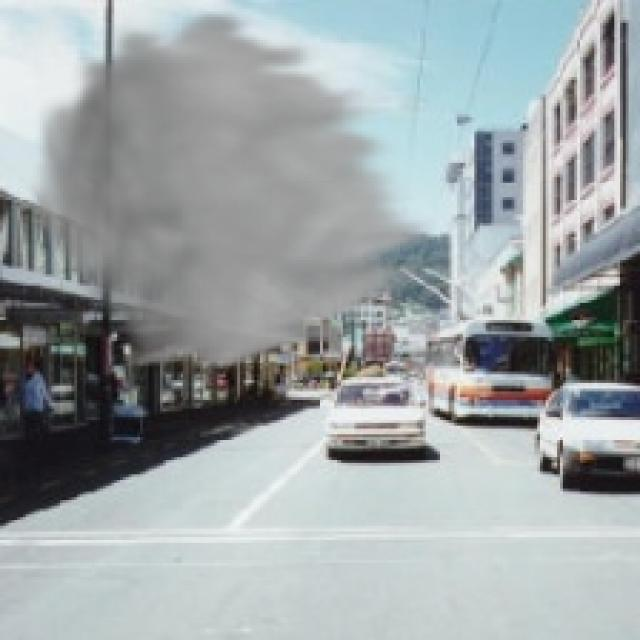smoke: (23, 6, 446, 374)
